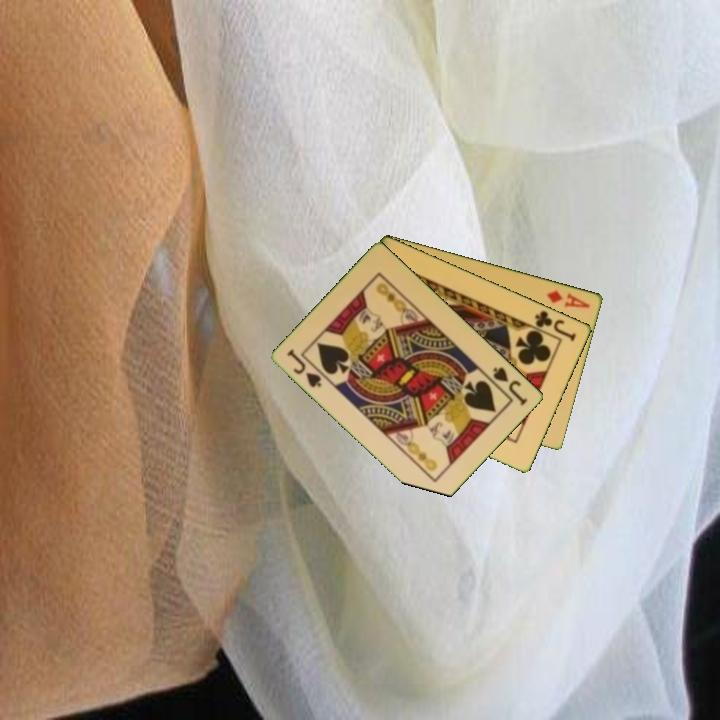Ad: (544, 286, 593, 311)
Jc: (532, 307, 579, 344)
Js: (489, 363, 531, 408), (284, 345, 325, 390)
